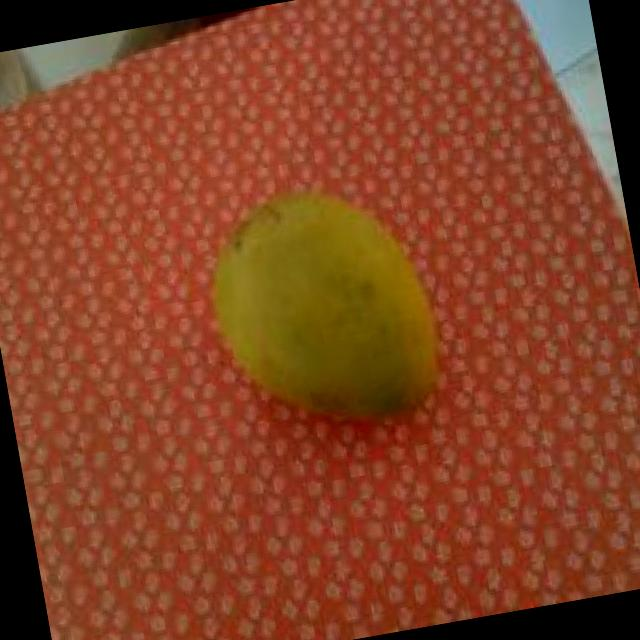Mango: (198, 168, 450, 448)
